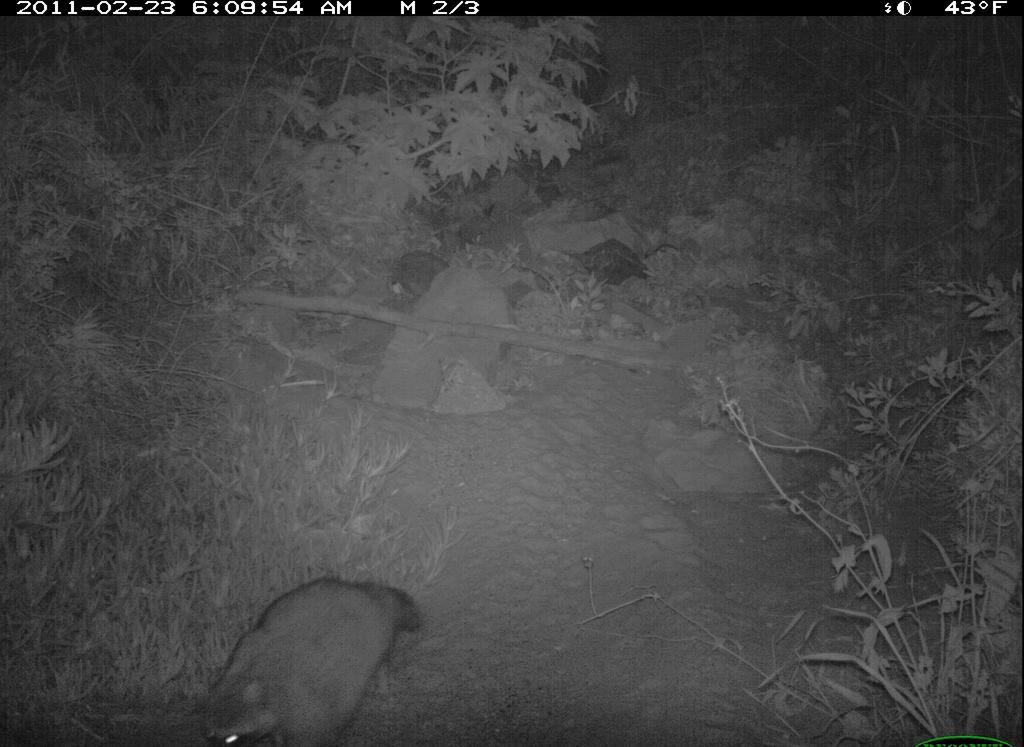raccoon: (187, 562, 434, 747)
